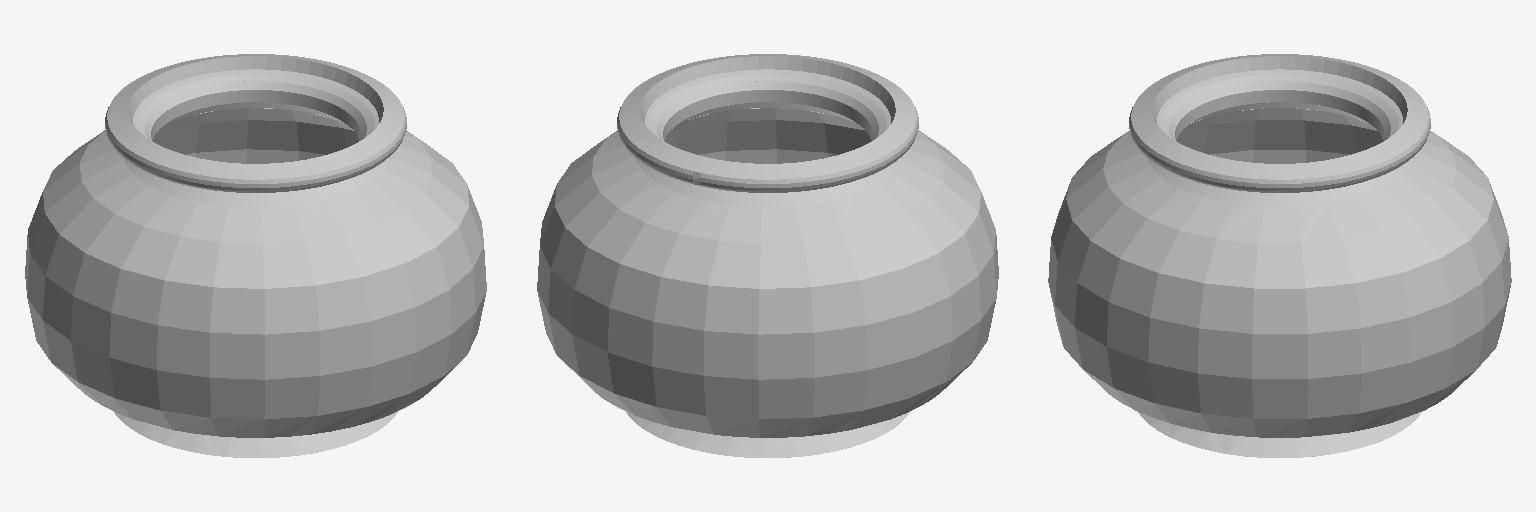
Rendered from FishBowl.obj.
The picture shows the model from 3 angles: view 1: azimuth 30°, elevation 25°; view 2: azimuth 150°, elevation 25°; view 3: azimuth 270°, elevation 25°; orthographic projection.
Visible parts, largest first — view 1: revolvedSurface1; view 2: revolvedSurface1; view 3: revolvedSurface1.
Boxes of the visible parts, box(x1,y1,x2,y2) form: revolvedSurface1: box(25, 54, 486, 457); revolvedSurface1: box(537, 54, 998, 457); revolvedSurface1: box(1048, 54, 1511, 457).
Bounding box in the file's own units: 12.84 × 8.99 × 12.93.